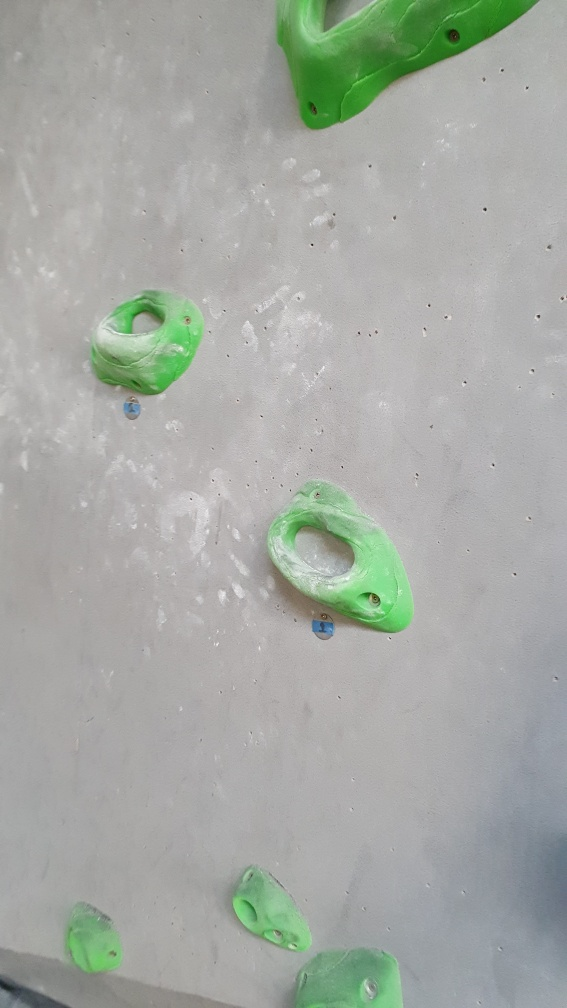Hand Start: (119, 393, 147, 423), (311, 613, 335, 645)
Pocket: (265, 1, 542, 136), (264, 479, 415, 636), (90, 290, 208, 399)
